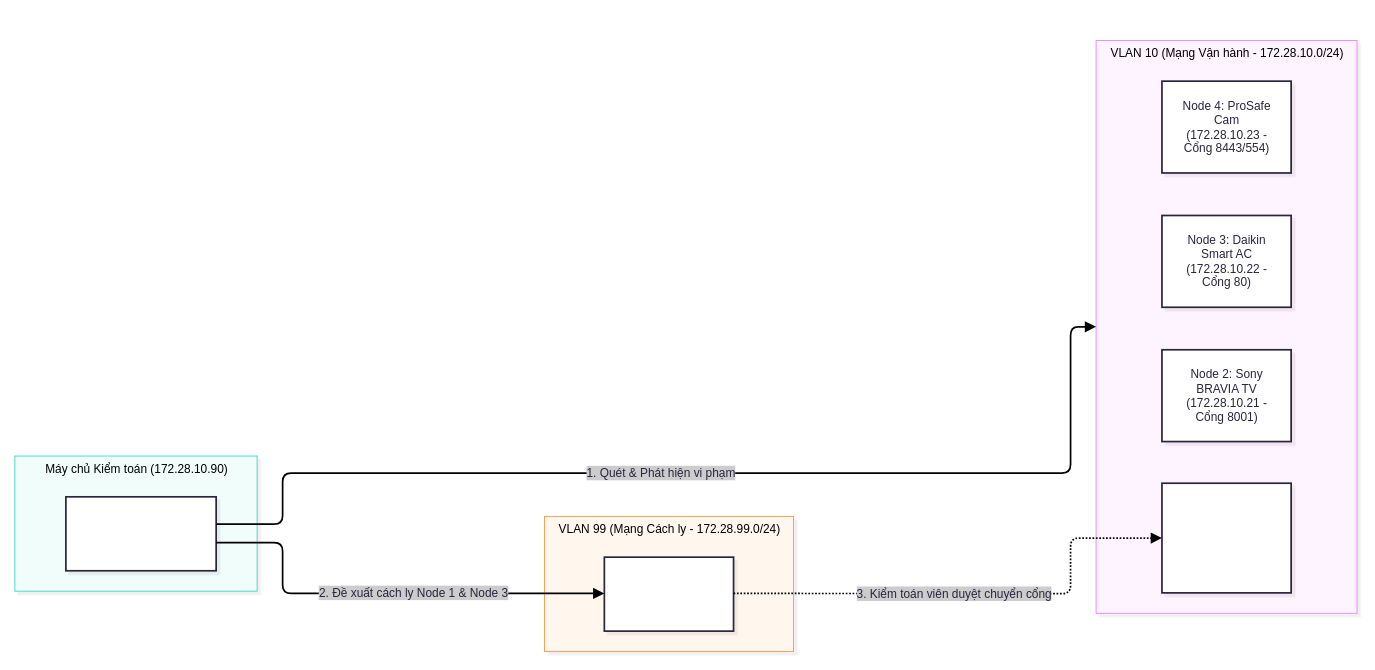
The diagram is 1375 pixels wide and 670 high, and some of its shapes have lost their labels. Each missing label, with the centre of its shape:
"Cổng Switch Cách ly (Cô lập thiết bị vi phạm)" belongs at pixel 670 595.
"Node 1: D-Link DCS-932L (172.28.10.20 - Cổng 8080/554)" belongs at pixel 1228 539.
"SecurityScannerEngine (Web UI: localhost:8000)" belongs at pixel 142 535.
